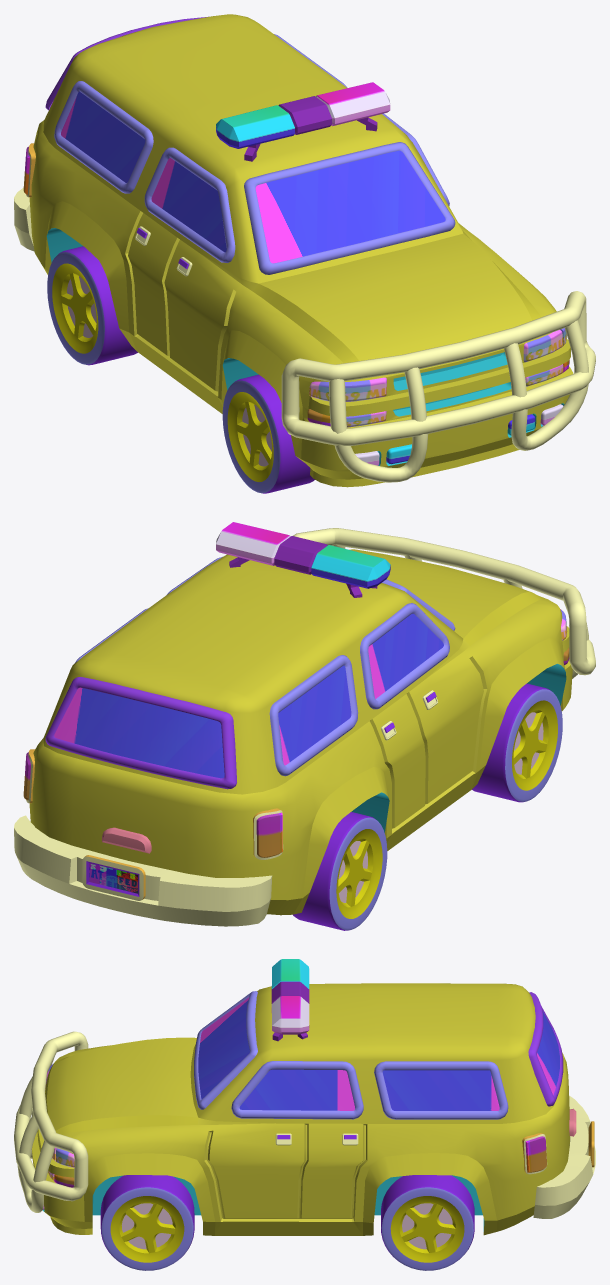
Rendered from Chevy_Suburban_FIB_GRP.fbx.
3 views of the same model, one above another, from view 1: azimuth 30°, elevation 25°; view 2: azimuth 150°, elevation 25°; view 3: azimuth 270°, elevation 25° (orthographic). The views are drawn at different scales.
Parts seen in each view (by area): view 1: SuburbanDark_mesh, SuburbanDark_Wheel_FR_mesh, SuburbanDark_Wheel_BR_mesh; view 2: SuburbanDark_mesh, SuburbanDark_Wheel_BR_mesh, SuburbanDark_Wheel_FR_mesh; view 3: SuburbanDark_mesh, SuburbanDark_Wheel_FL_mesh, SuburbanDark_Wheel_BL_mesh.
Boxes of the visible parts, x1,y1,x2,y2 form: SuburbanDark_mesh: [14, 14, 595, 487]; SuburbanDark_Wheel_FR_mesh: [222, 374, 314, 493]; SuburbanDark_Wheel_BR_mesh: [47, 246, 137, 365]; SuburbanDark_mesh: [14, 522, 595, 926]; SuburbanDark_Wheel_BR_mesh: [293, 812, 387, 930]; SuburbanDark_Wheel_FR_mesh: [472, 683, 562, 802]; SuburbanDark_mesh: [14, 959, 595, 1235]; SuburbanDark_Wheel_FL_mesh: [100, 1175, 194, 1270]; SuburbanDark_Wheel_BL_mesh: [381, 1175, 474, 1270].
Bounding box in the file's own units: 1.63 × 1.45 × 3.36.
